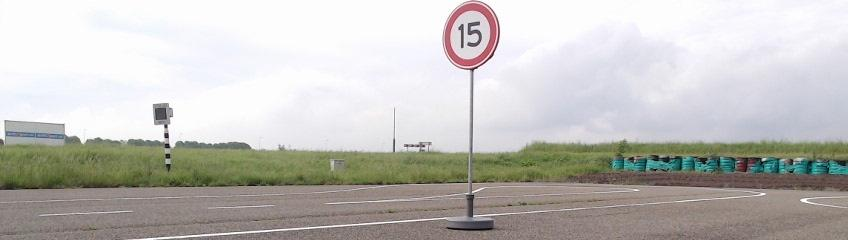Speed-limit-15km-h-: (443, 1, 500, 70)
